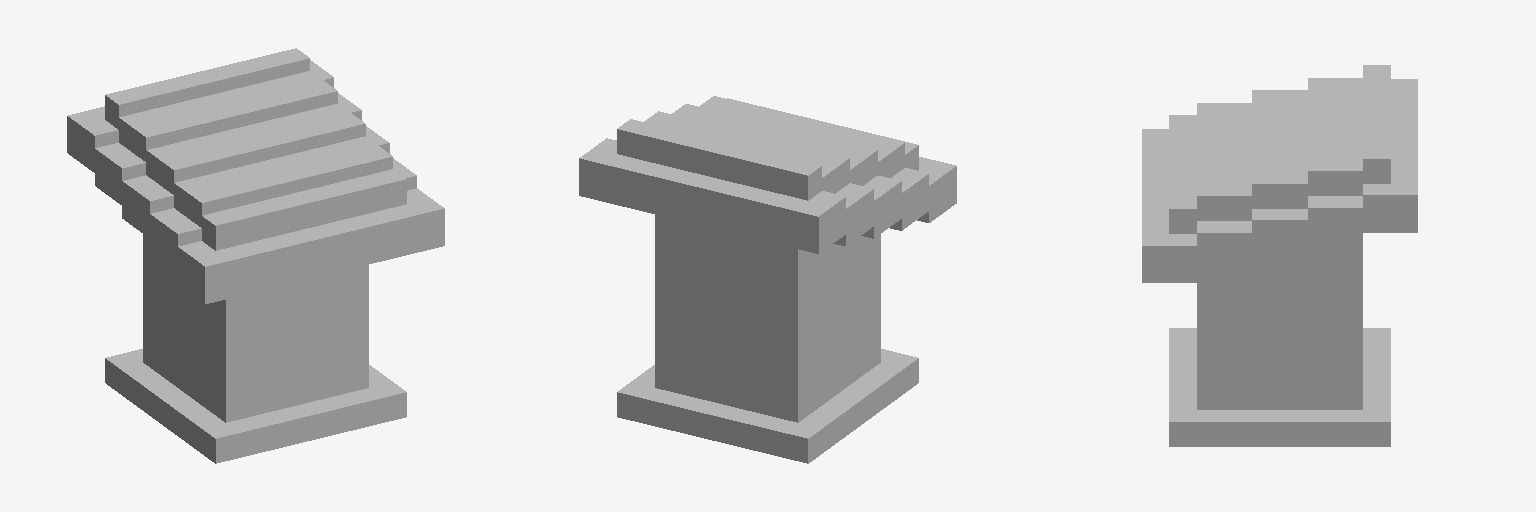
File: lifestone altar.obj
3 renders of one model, left to right at view 1: azimuth 30°, elevation 25°; view 2: azimuth 150°, elevation 25°; view 3: azimuth 270°, elevation 25°, orthographic.
Parts seen in each view (by area): view 1: object 1; view 2: object 1; view 3: object 1.
Boxes of the visible parts, x1,y1,x2,y2 form: object 1: [67, 48, 444, 463]; object 1: [579, 96, 956, 463]; object 1: [1142, 65, 1417, 446].
Bounding box in the file's own units: 2 × 2.3 × 2.